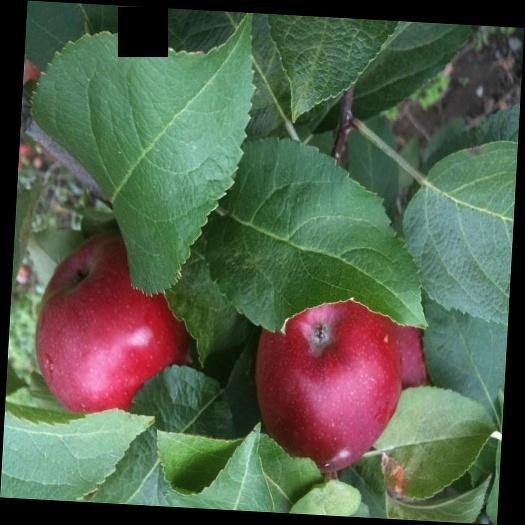red apple: (30, 228, 202, 424), (249, 295, 422, 474)
